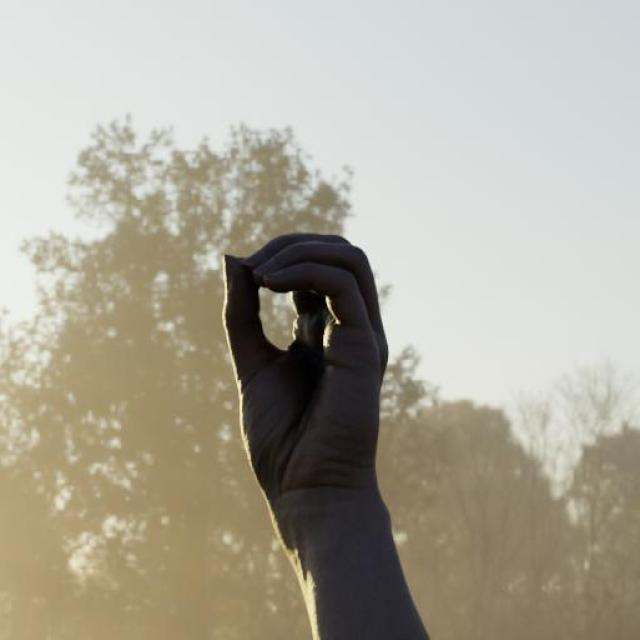O: (218, 230, 390, 520)
